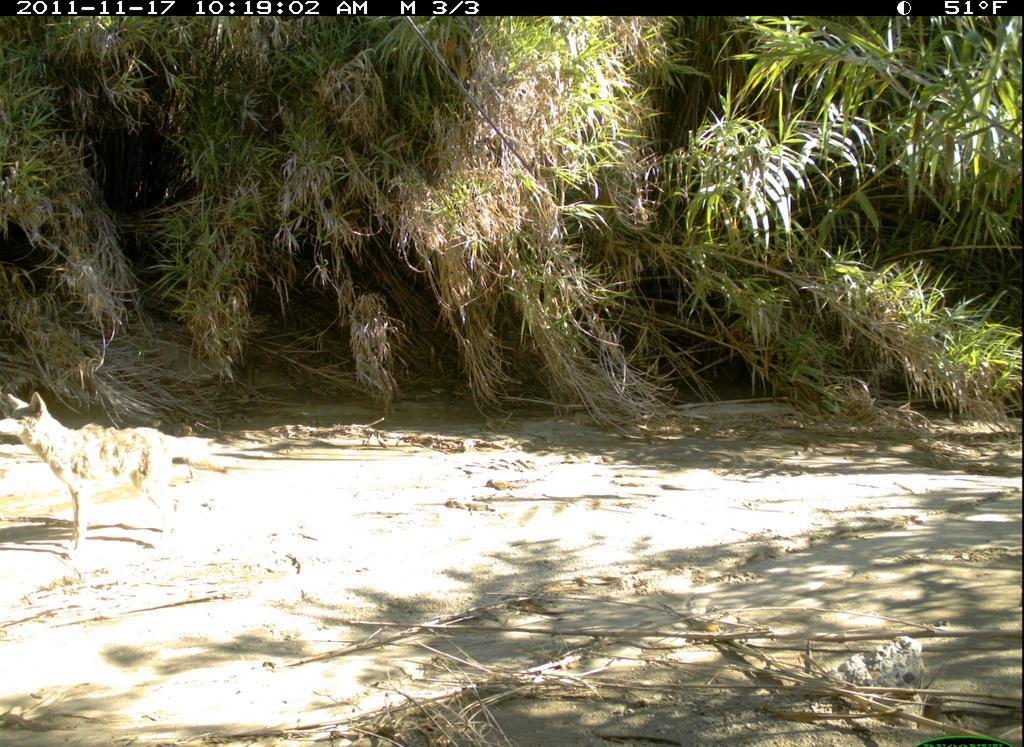coyote: (1, 390, 237, 572)
